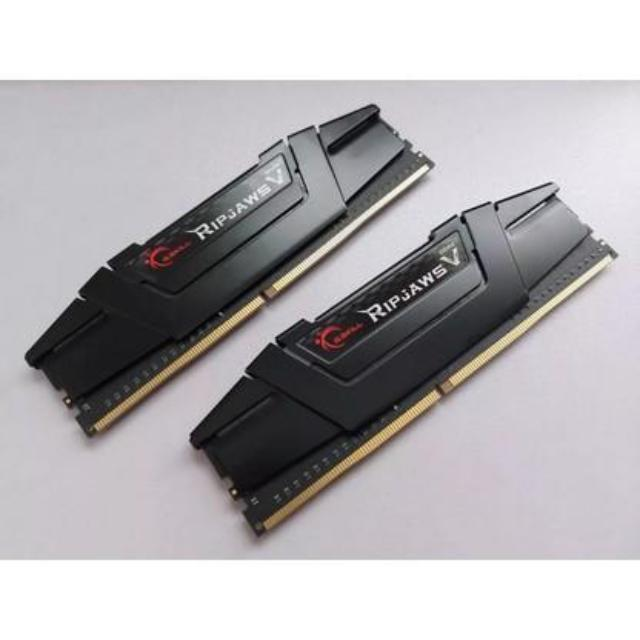RAM: (19, 102, 621, 548)
